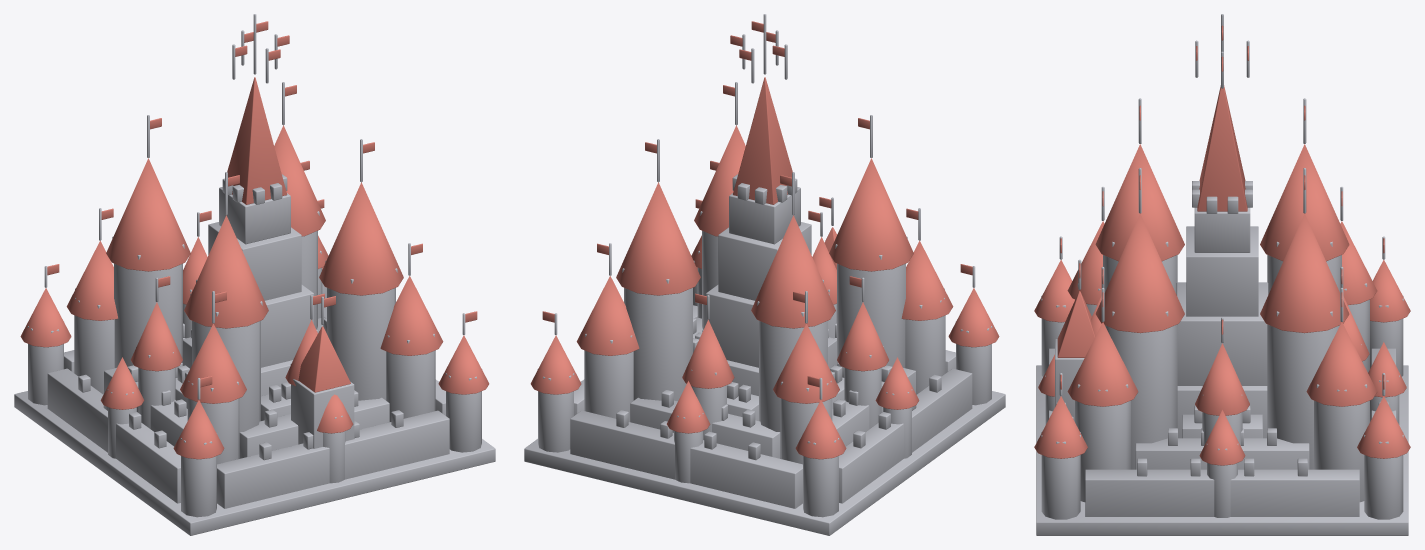
File: castle_t6.glb
The picture shows the model from 3 angles, left to right: view 1: azimuth 30°, elevation 25°; view 2: azimuth 150°, elevation 25°; view 3: azimuth 270°, elevation 25°; orthographic projection. The views are drawn at different scales.
Parts seen in each view (by area): view 1: stone, roof; view 2: stone, roof; view 3: stone, roof.
Part boxes in pixels (x1,y1,x2,y2): stone: (14, 14, 495, 535); roof: (20, 21, 489, 459); stone: (524, 14, 1005, 535); roof: (530, 21, 999, 459); stone: (1036, 14, 1408, 535); roof: (1034, 25, 1410, 465).
Bounding box in the file's own units: 4.85 × 6.31 × 4.85.
